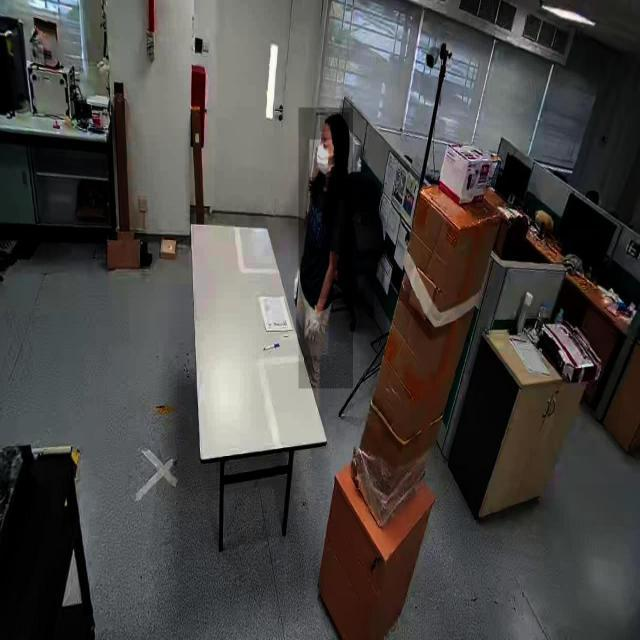gloves: (298, 298, 329, 356)
